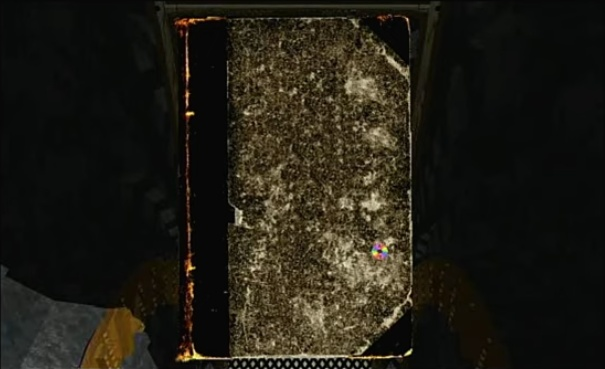Waiting: (368, 241, 392, 261)
